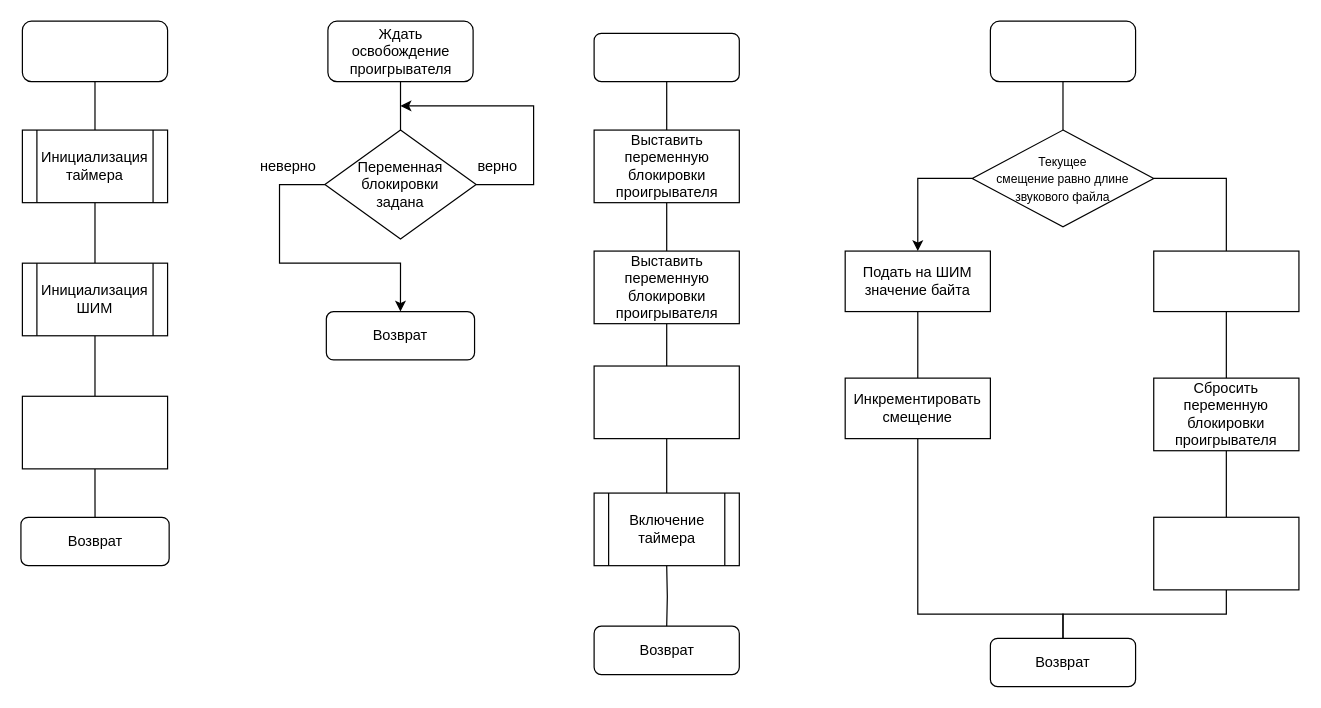
Some shapes in this 1321 by 708 pixel diagram are drawn without their labels. The shapes that lost their labels are listed below. From the top down, each one's centre as x and y in pixels, then its label:
(x=94, y=51): Инициализация прогрывателя
(x=666, y=57): Запустить проигрывание
(x=1062, y=51): Прерывание таймера
(x=1226, y=281): Остановить таймер
(x=666, y=402): Запомнить callback-функцию
(x=94, y=432): Инициализация переменной смещения и callback-функции
(x=1226, y=553): Вызвать callback-функцию
